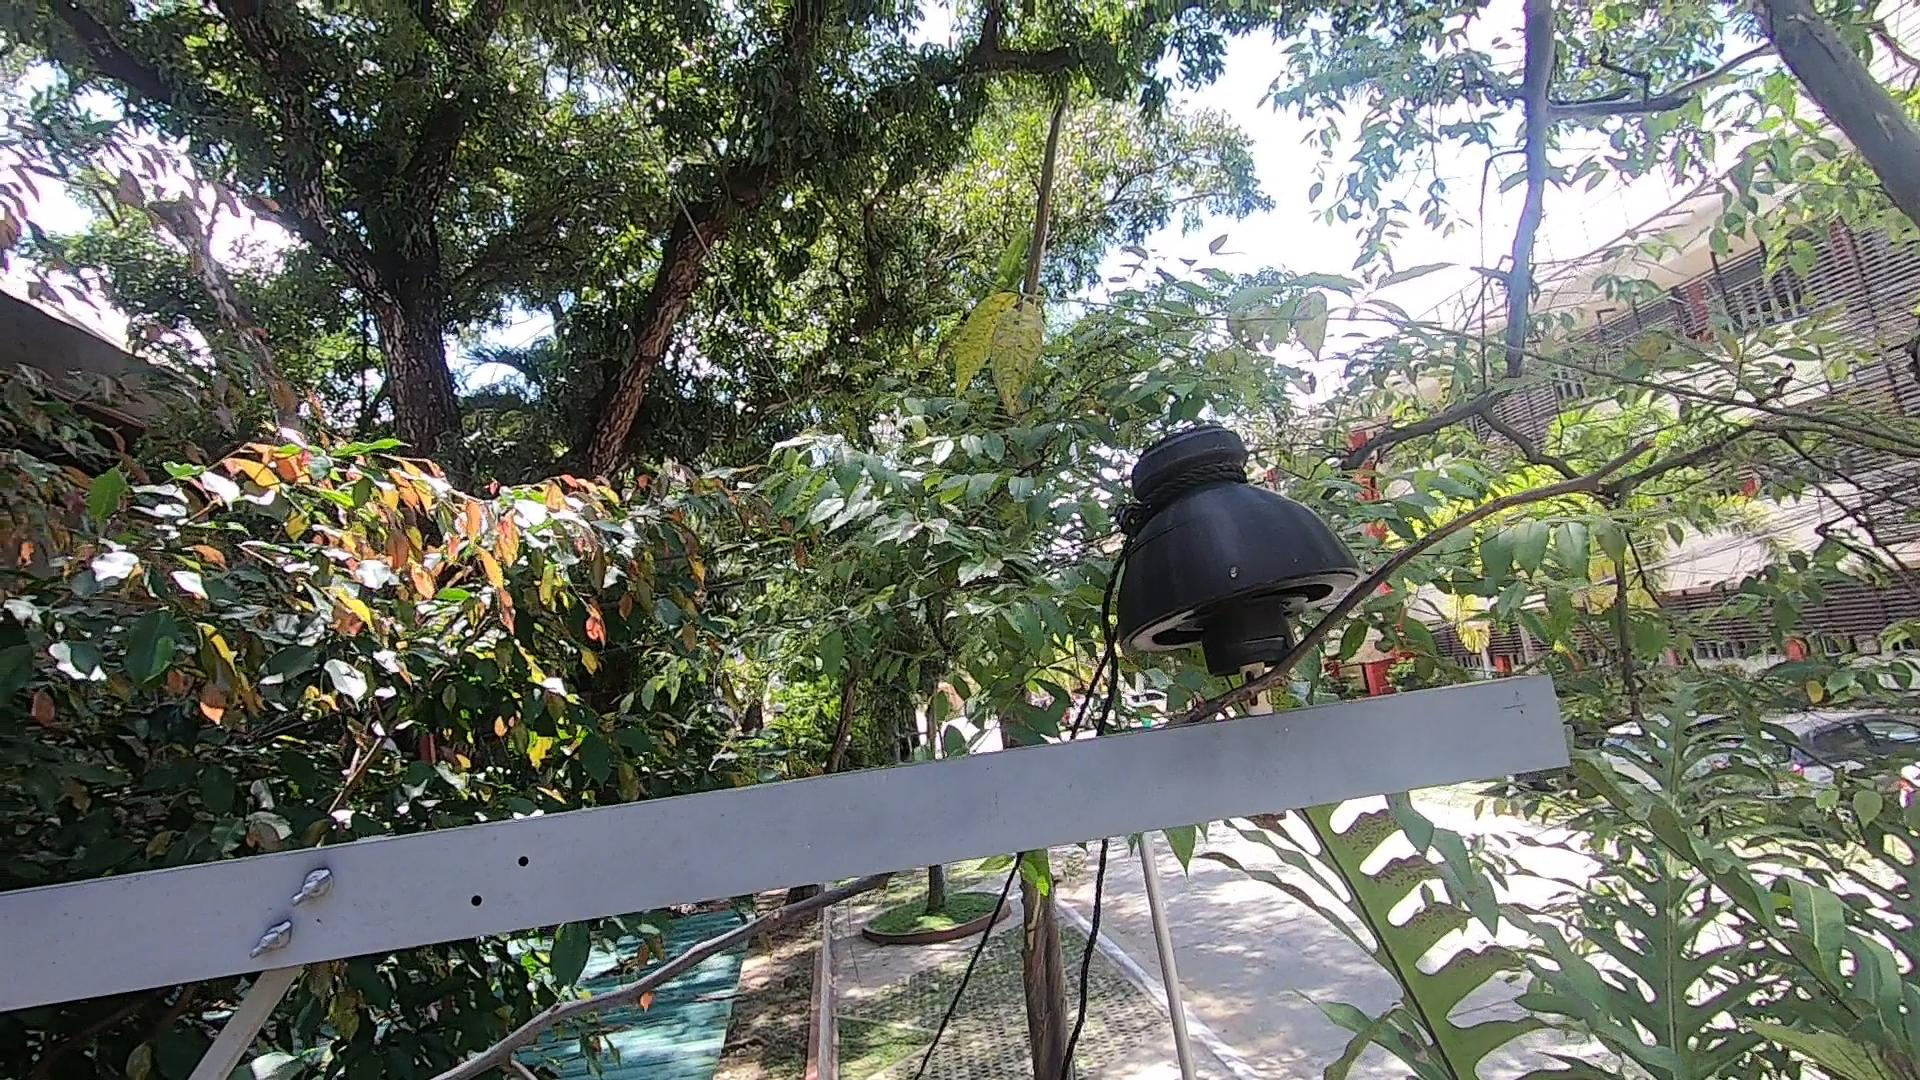tree branch: (313, 429, 1669, 1080)
